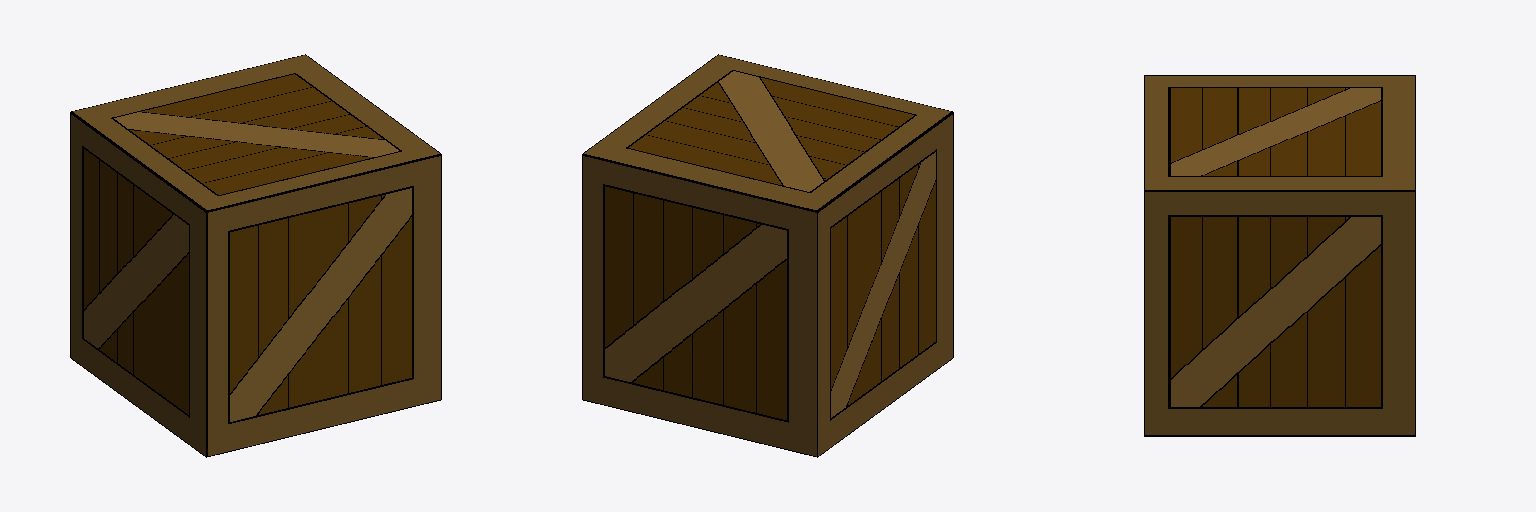
The picture shows the model from 3 angles: view 1: azimuth 30°, elevation 25°; view 2: azimuth 150°, elevation 25°; view 3: azimuth 270°, elevation 25°; orthographic projection.
Visible parts, largest first — view 1: Cube; view 2: Cube; view 3: Cube.
Part boxes in pixels (x1,y1,x2,y2): Cube: (70, 54, 441, 457); Cube: (582, 54, 953, 457); Cube: (1144, 75, 1415, 436).
Size of the model in its own units: 2 by 2 by 2.
1 materials, 1 textured.